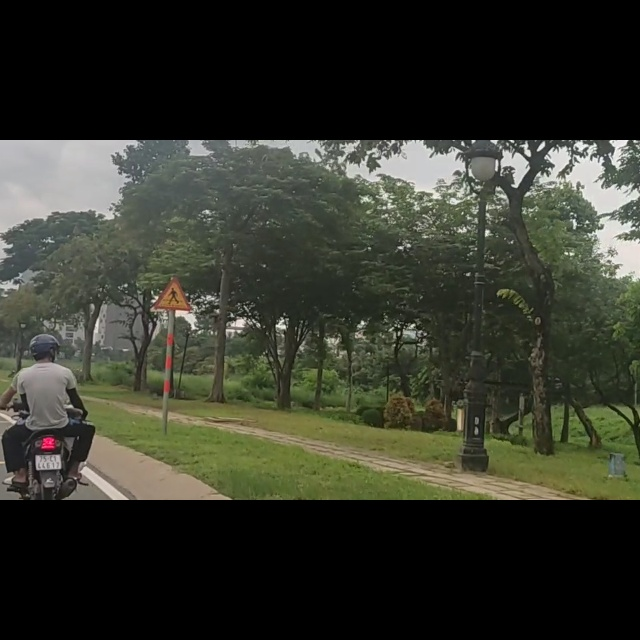bien_nguy_hiem: (155, 245, 190, 303)
